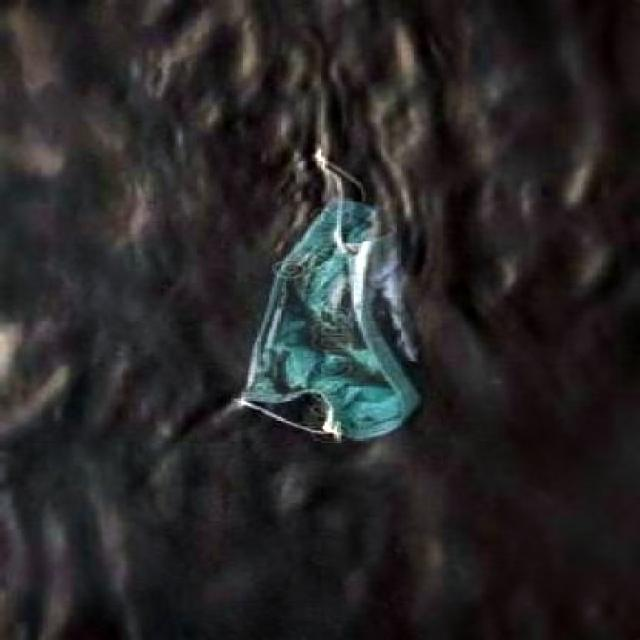Mask: (233, 142, 436, 443)
